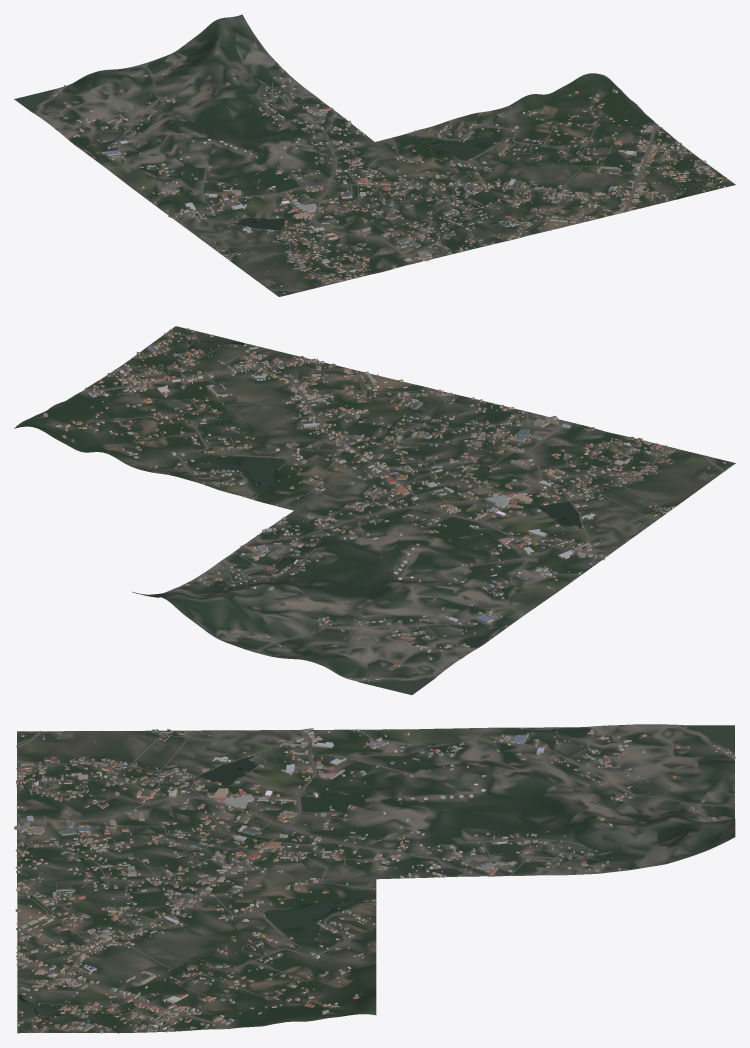
The picture shows the model from 3 angles, top to bottom: view 1: azimuth 30°, elevation 25°; view 2: azimuth 150°, elevation 25°; view 3: azimuth 270°, elevation 25°; orthographic projection. The views are drawn at different scales.
Visible parts, largest first — view 1: ground, buildings, roads, water; view 2: ground, buildings, roads, water; view 3: ground, buildings, roads, water.
Boxes of the visible parts, box(x1,y1,x2,y2) form: ground: box(14, 14, 735, 296); buildings: box(36, 61, 731, 293); roads: box(37, 66, 725, 292); water: box(14, 89, 703, 244); ground: box(14, 326, 735, 694); buildings: box(43, 328, 725, 681); roads: box(79, 332, 725, 679); water: box(132, 340, 582, 694); ground: box(17, 724, 735, 1033); buildings: box(14, 726, 735, 1033); roads: box(16, 724, 734, 1032); water: box(18, 725, 734, 1032).
Bounding box in the file's own units: 2813 × 205 × 2819.
